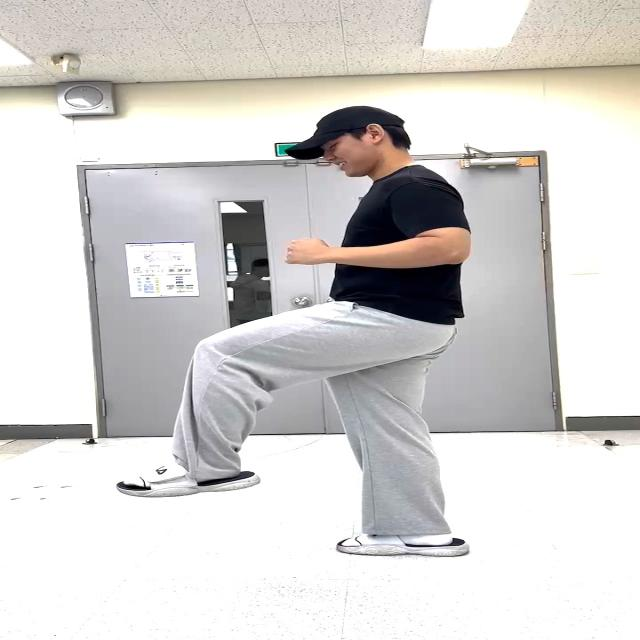leg: (127, 303, 391, 536)
